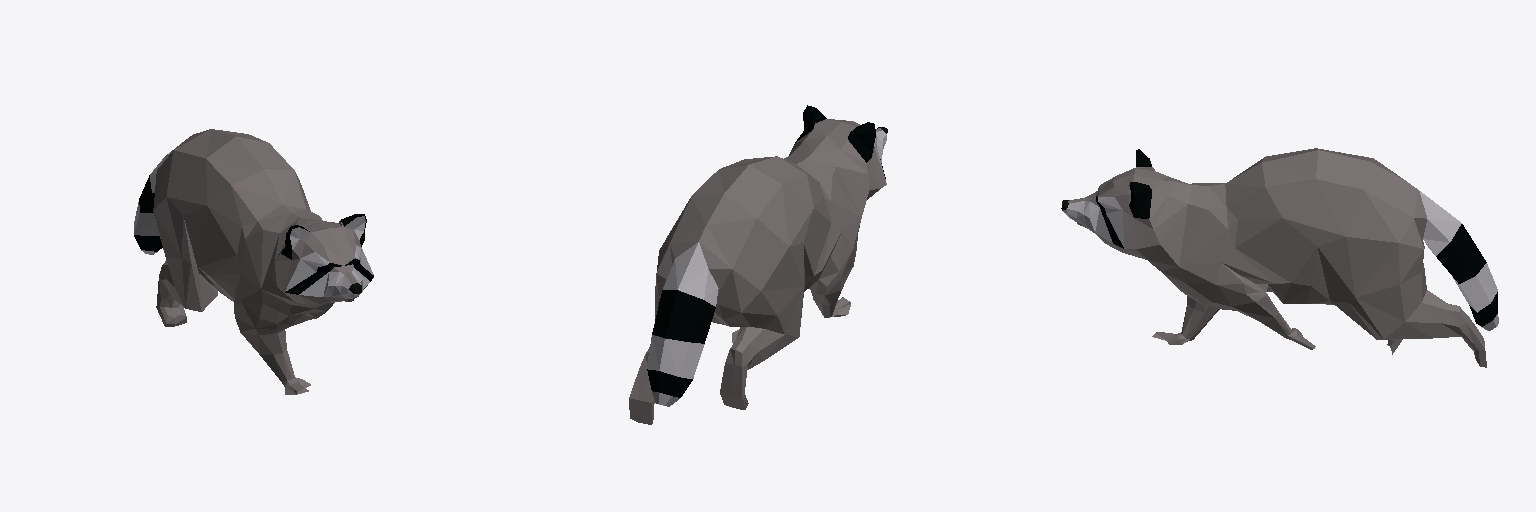
File: raccoon_colorMap.obj
3 renders of one model, left to right at view 1: azimuth 30°, elevation 25°; view 2: azimuth 150°, elevation 25°; view 3: azimuth 270°, elevation 25°, orthographic.
Parts seen in each view (by area): view 1: polySurface1; view 2: polySurface1; view 3: polySurface1.
Boxes of the visible parts, <box> form: polySurface1: <box>134,129,373,394</box>; polySurface1: <box>629,105,887,424</box>; polySurface1: <box>1061,148,1498,367</box>.
Size of the model in its own units: 22.26 by 40.47 by 75.81.